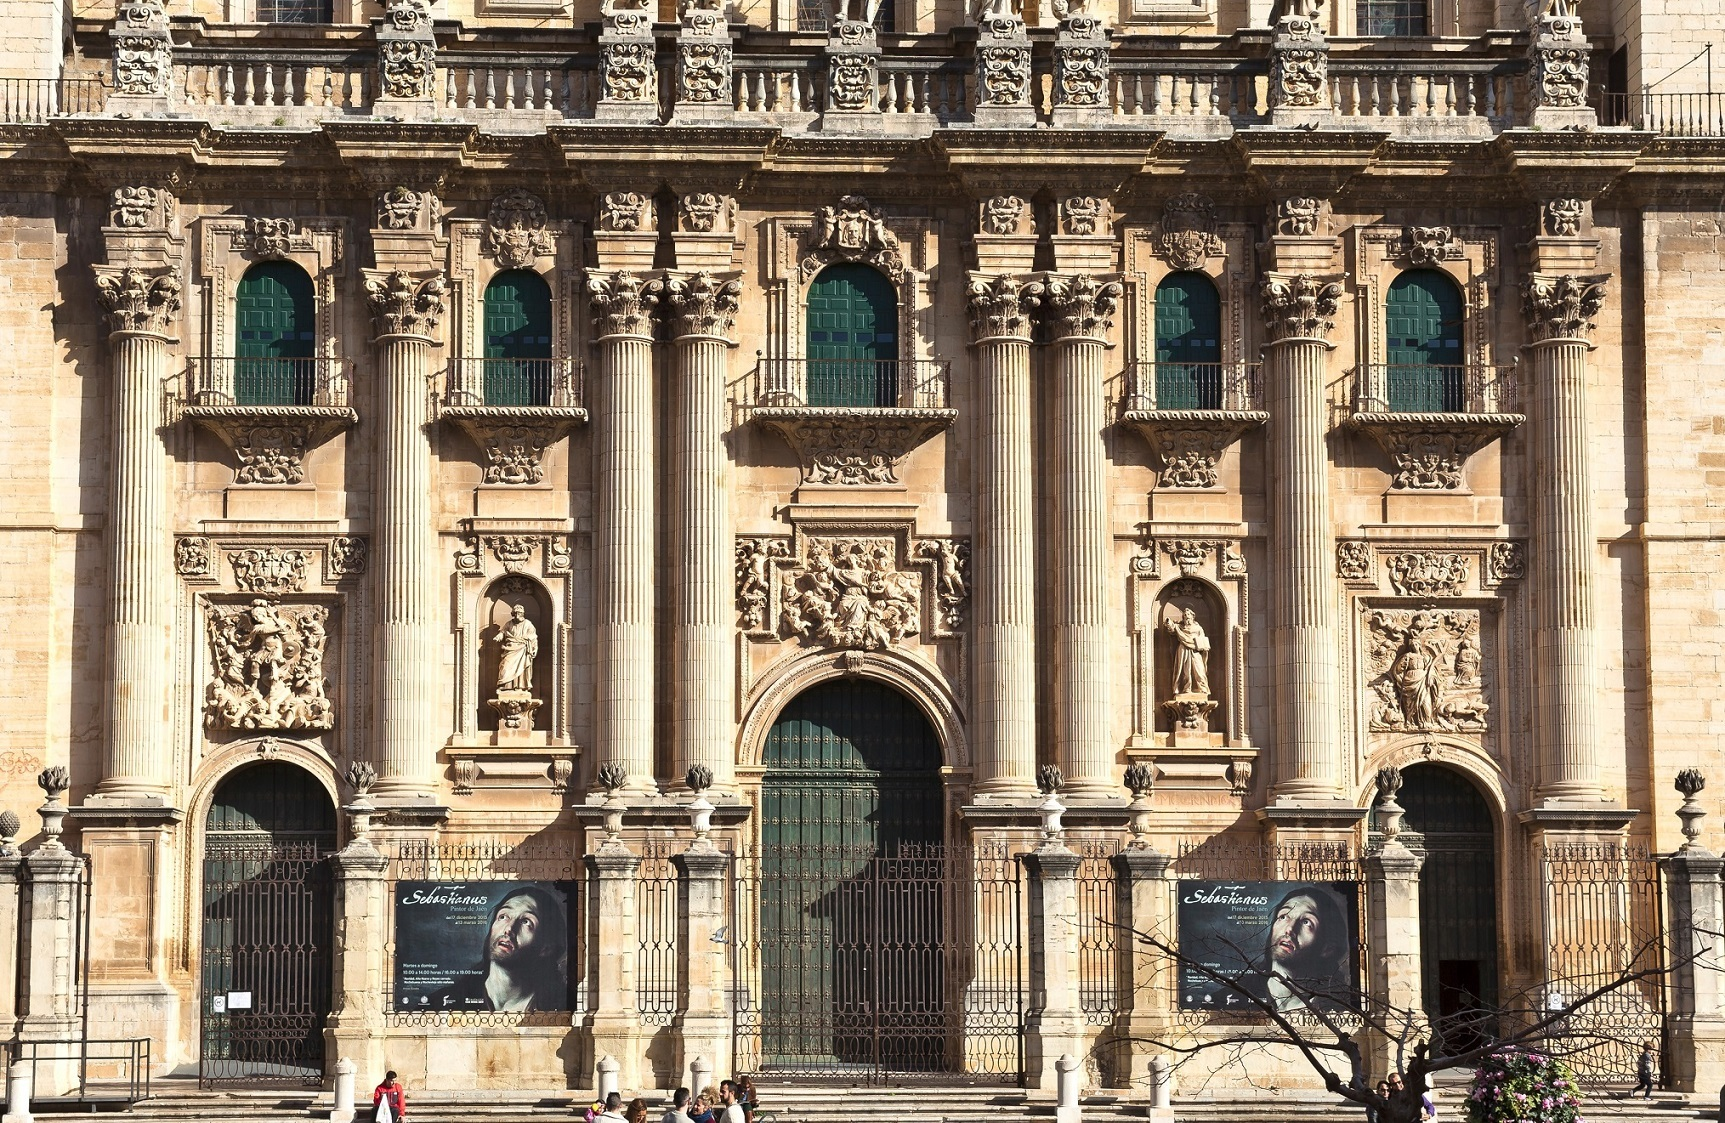arco-medio-punto: (732, 649, 974, 799), (182, 732, 351, 848), (1358, 738, 1515, 829), (798, 253, 907, 314), (470, 568, 562, 636), (226, 252, 321, 316), (1149, 570, 1243, 634), (1375, 255, 1474, 313), (477, 262, 559, 314), (1148, 260, 1226, 314)
